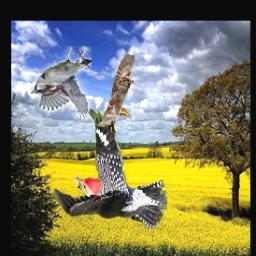Sparrow: (30, 46, 92, 119), (95, 54, 135, 133)
Woodpecker: (53, 108, 167, 229)
